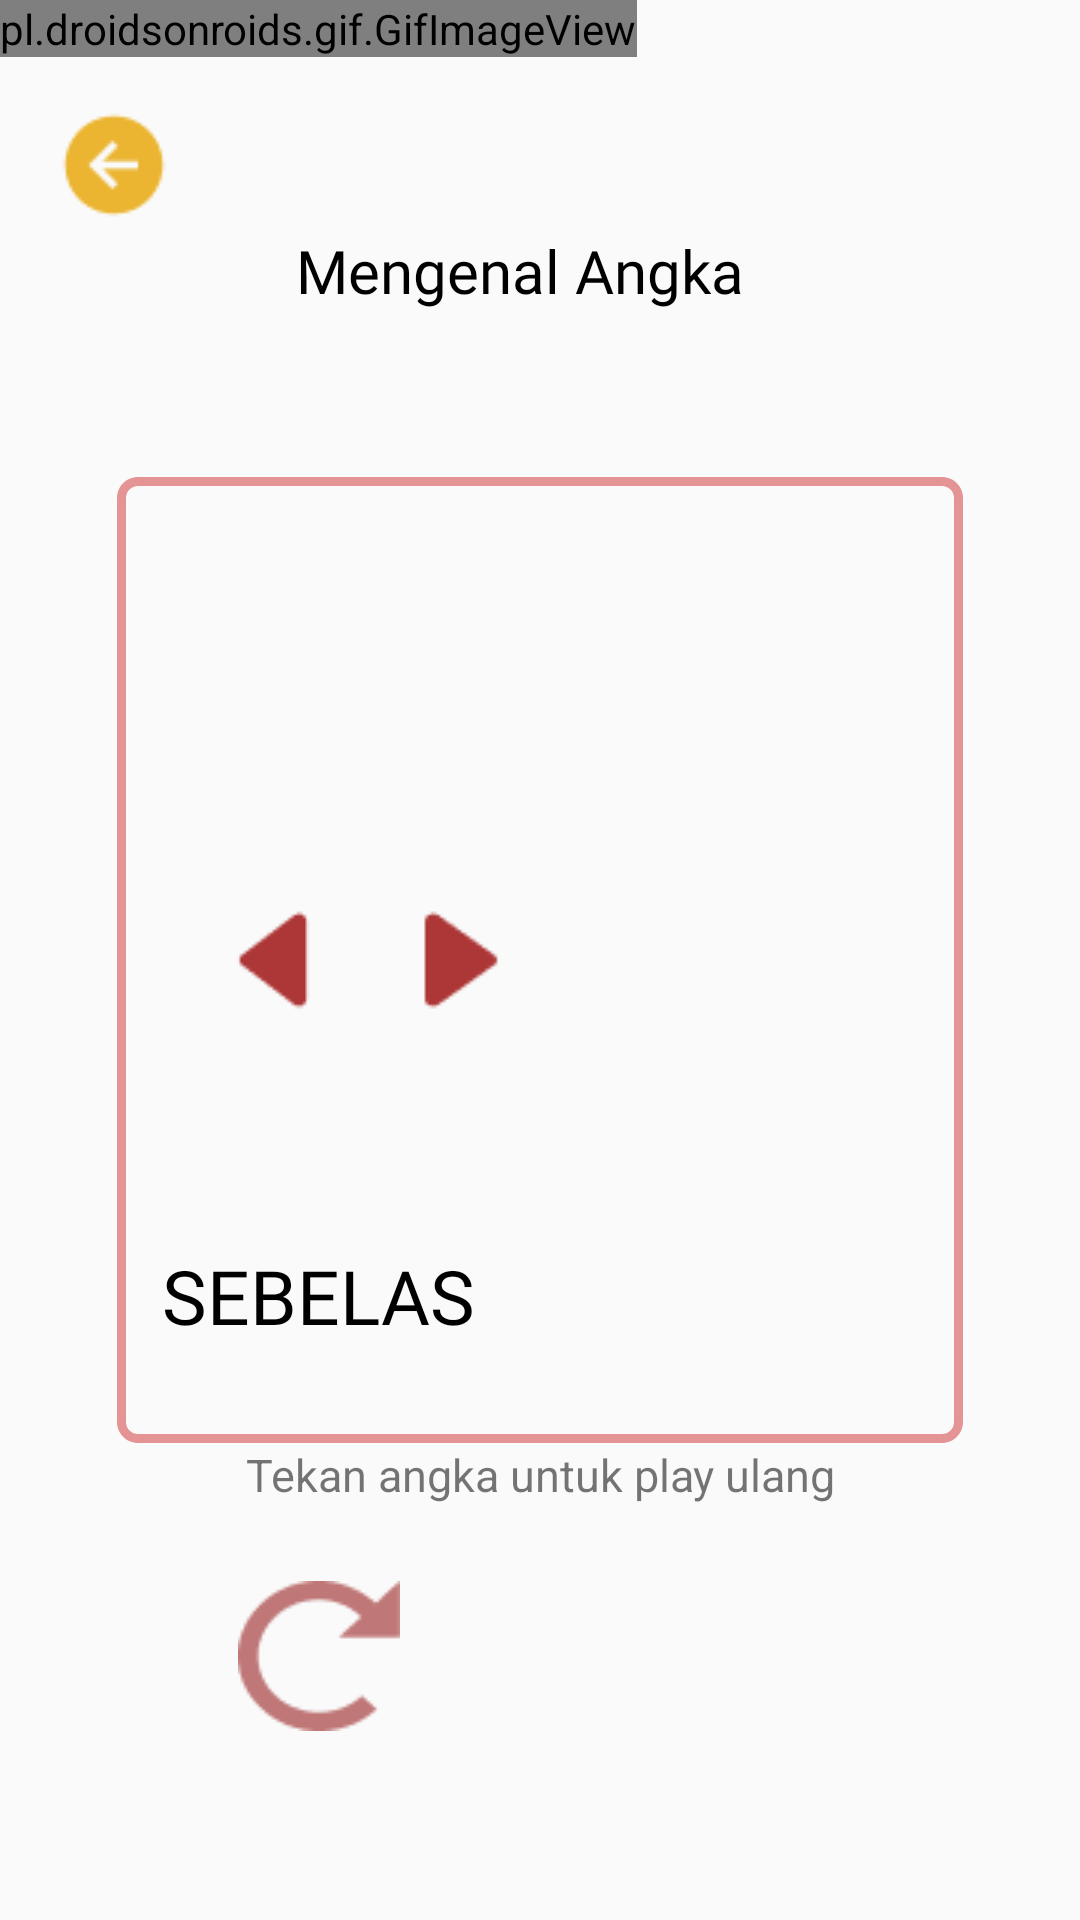

Named icons in this screenshot (1080*1920) and their centers, point (x, y):
keluar: point (114, 165)
next: point (461, 959)
reload: point (319, 1656)
